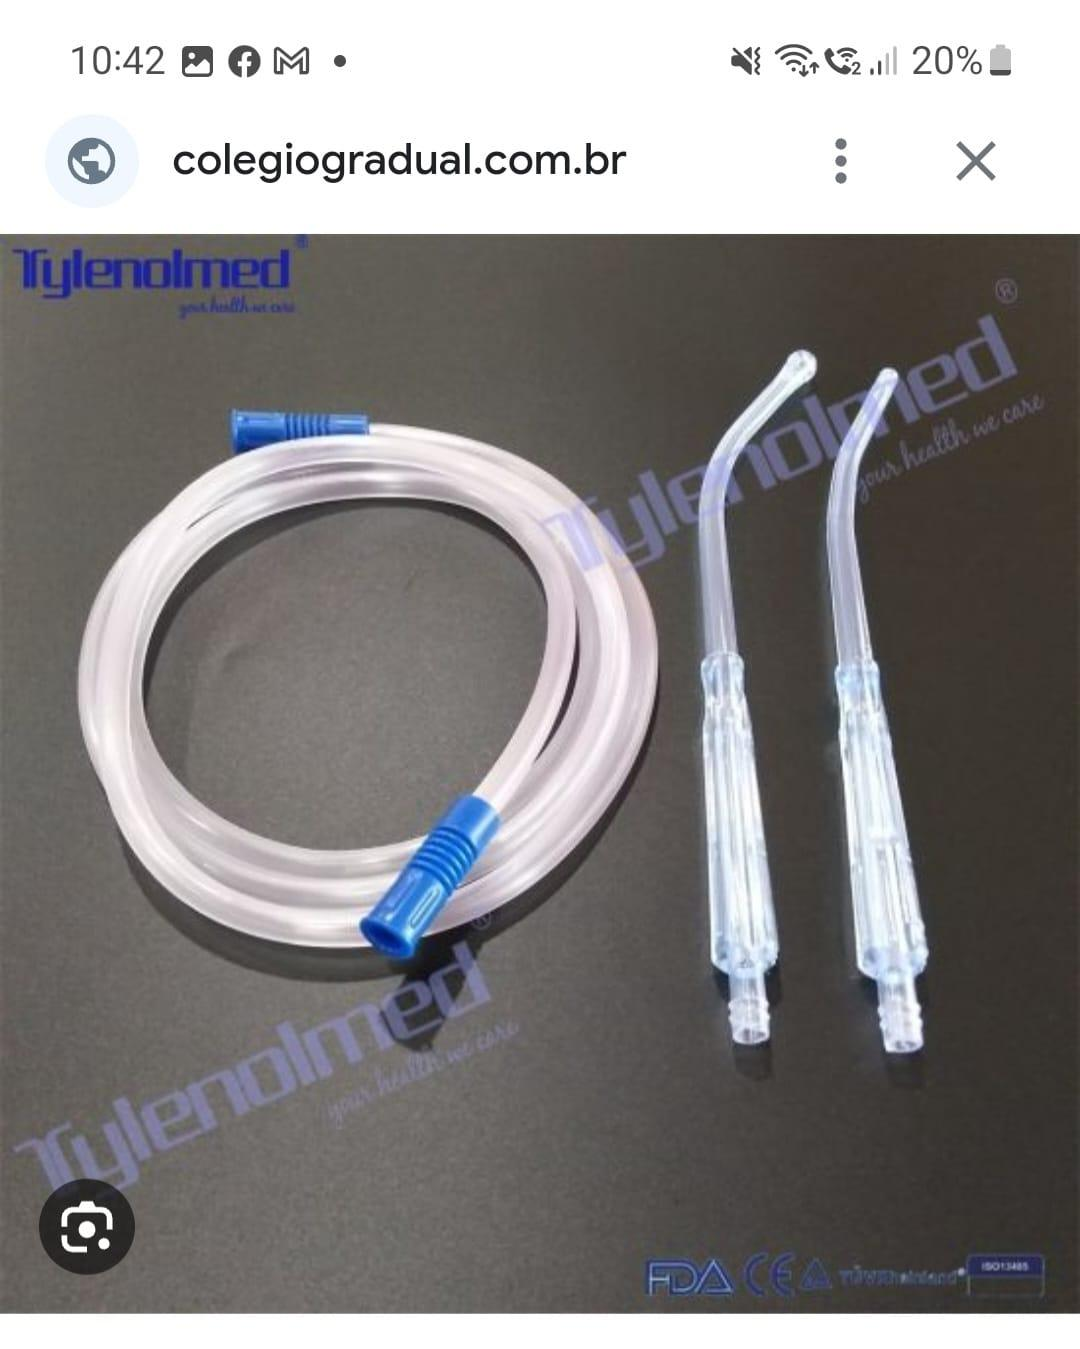Suction Tube Nozzle: (56, 336, 812, 1066)
